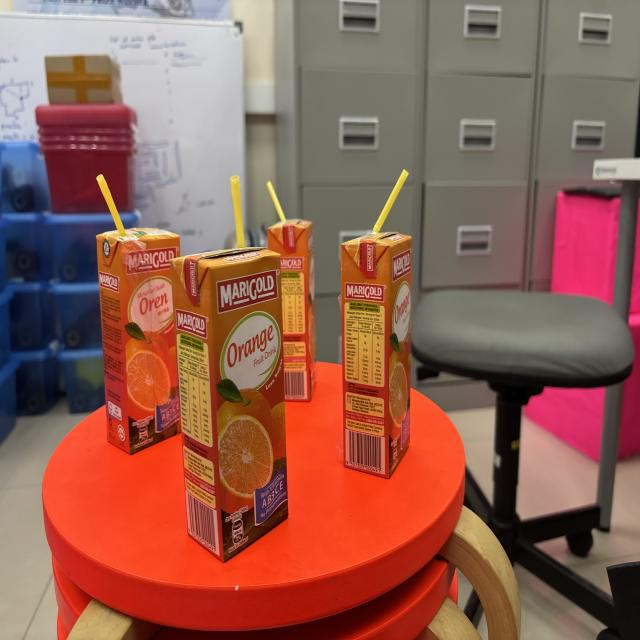drink_carton: (168, 167, 294, 568), (331, 162, 432, 490), (89, 167, 189, 457), (261, 169, 323, 417)
